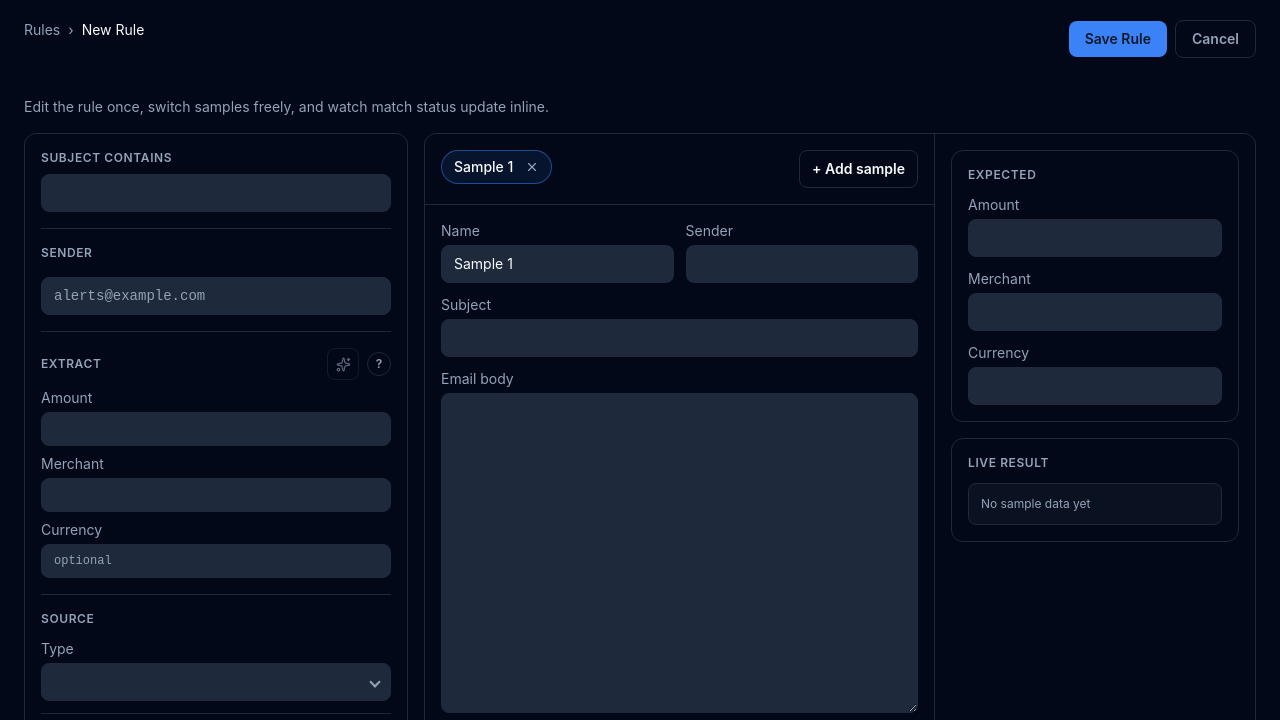
Test: RuleForm diagnostics › deletes samples from the workbench while keeping one blank sample
This screenshot has width=1280, height=720.
Step 1. Click the button "+ Add sample" → click(859, 169), box 799,150 -> 918,188
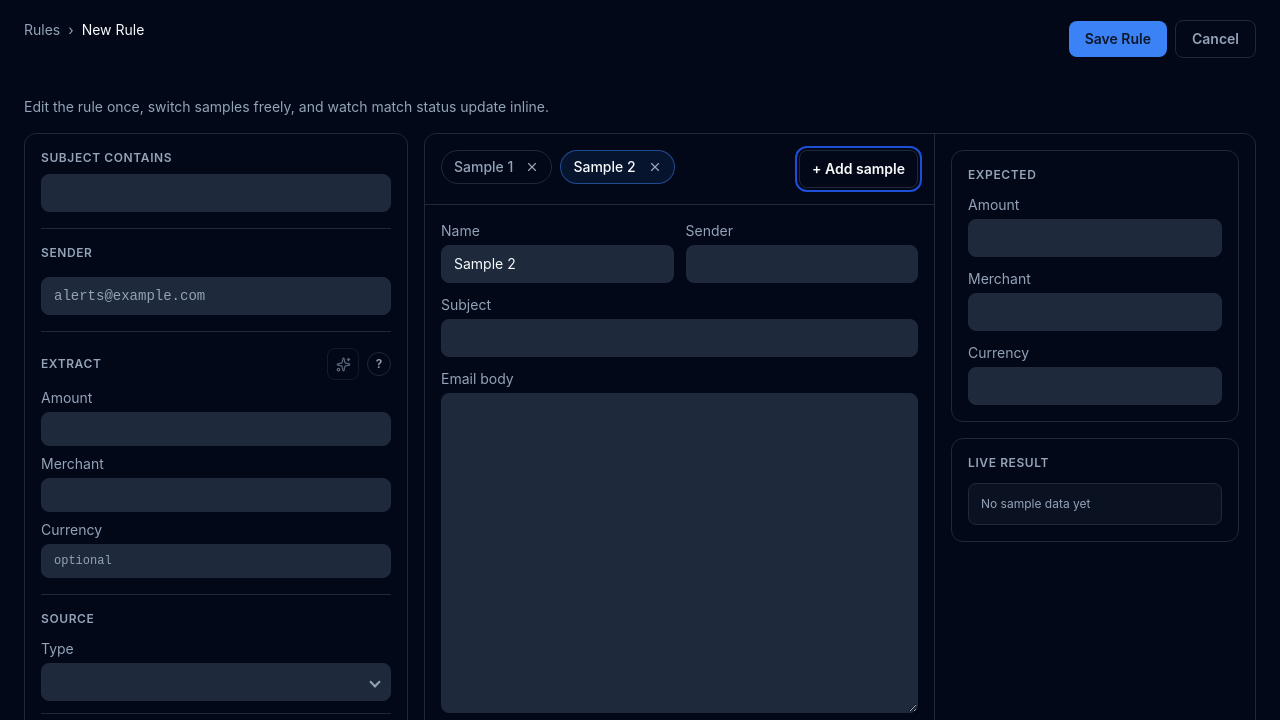
Expected: the tab "Sample 2" is shown, 561,151 -> 648,183
Step 2. Click the button named "Remove sample Sample 2" → click(661, 167), box 648,160 -> 674,174
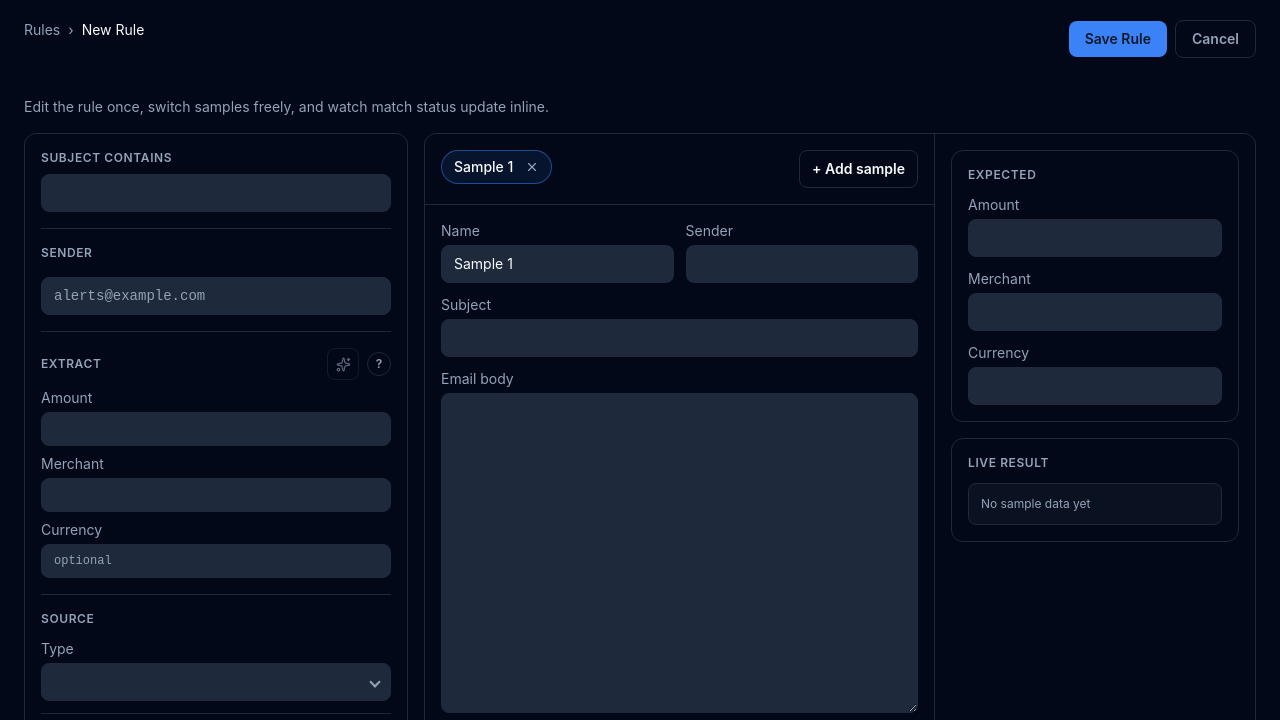
Expected: the tab "Sample 1" is shown, 442,151 -> 525,183
Expected: the tab "Sample 2" is gone
